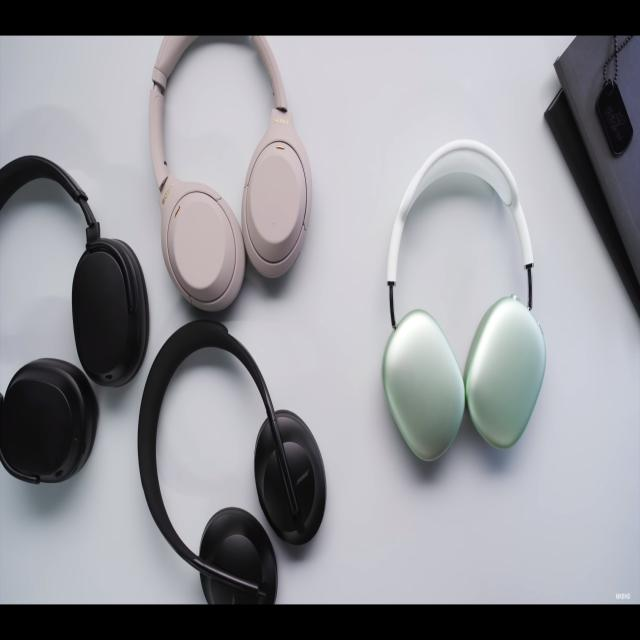Headphone: (137, 319, 326, 606), (382, 137, 546, 464), (2, 153, 150, 487), (148, 36, 312, 315)
